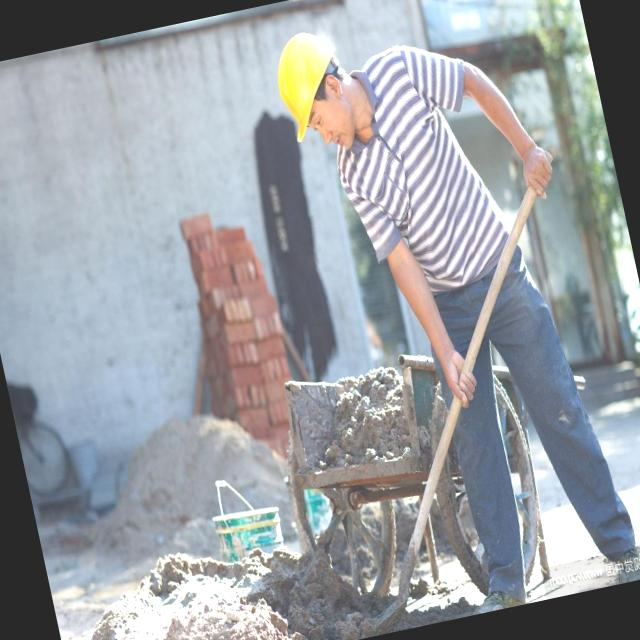helmet: (262, 22, 356, 149)
no-vest: (328, 28, 516, 321)
